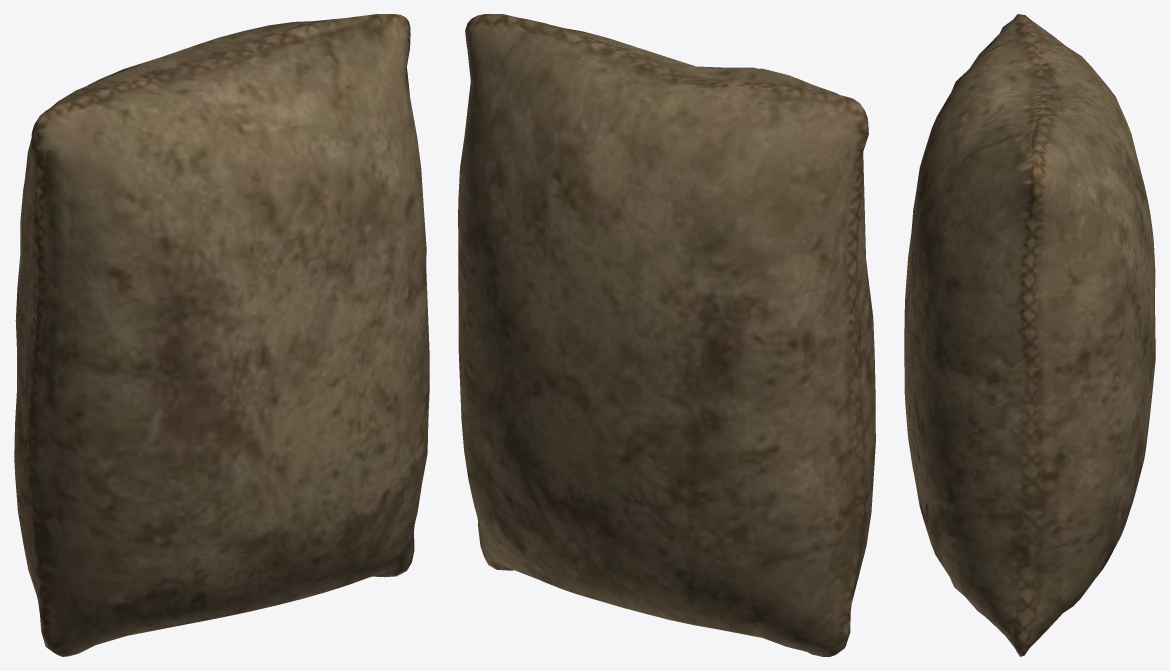
File: SackFullA.glb
3 views of the same model, side by side, from view 1: azimuth 30°, elevation 25°; view 2: azimuth 150°, elevation 25°; view 3: azimuth 270°, elevation 25° (orthographic). The views are drawn at different scales.
Visible parts, largest first — view 1: SackFullA; view 2: SackFullA; view 3: SackFullA.
Boxes of the visible parts, <box> form: SackFullA: <box>14,14,429,656</box>; SackFullA: <box>458,14,875,656</box>; SackFullA: <box>904,14,1155,656</box>.
Bounding box in the file's own units: 0.6299 × 0.876 × 0.3969.
1 material, 1 textured.
